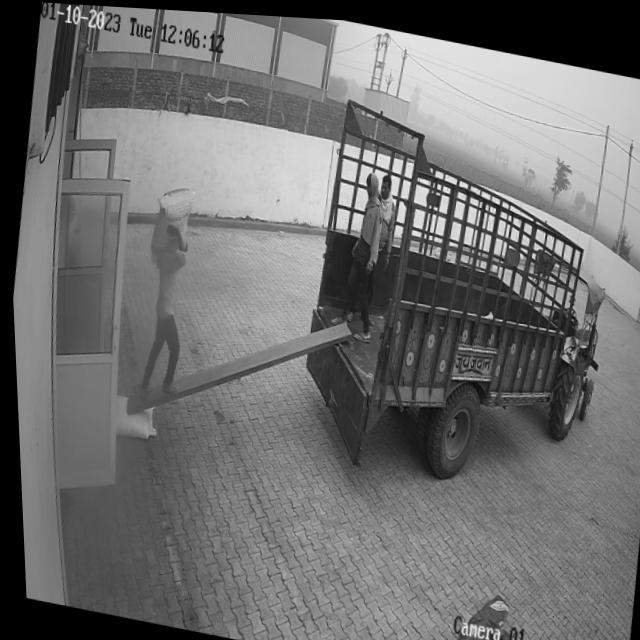sack: (144, 179, 196, 263), (109, 392, 157, 440)
